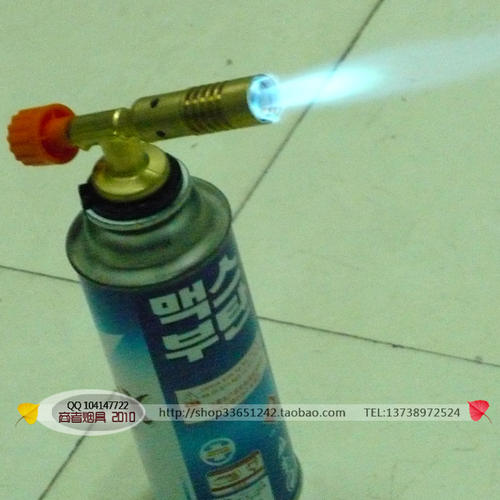fire: (256, 42, 395, 136)
